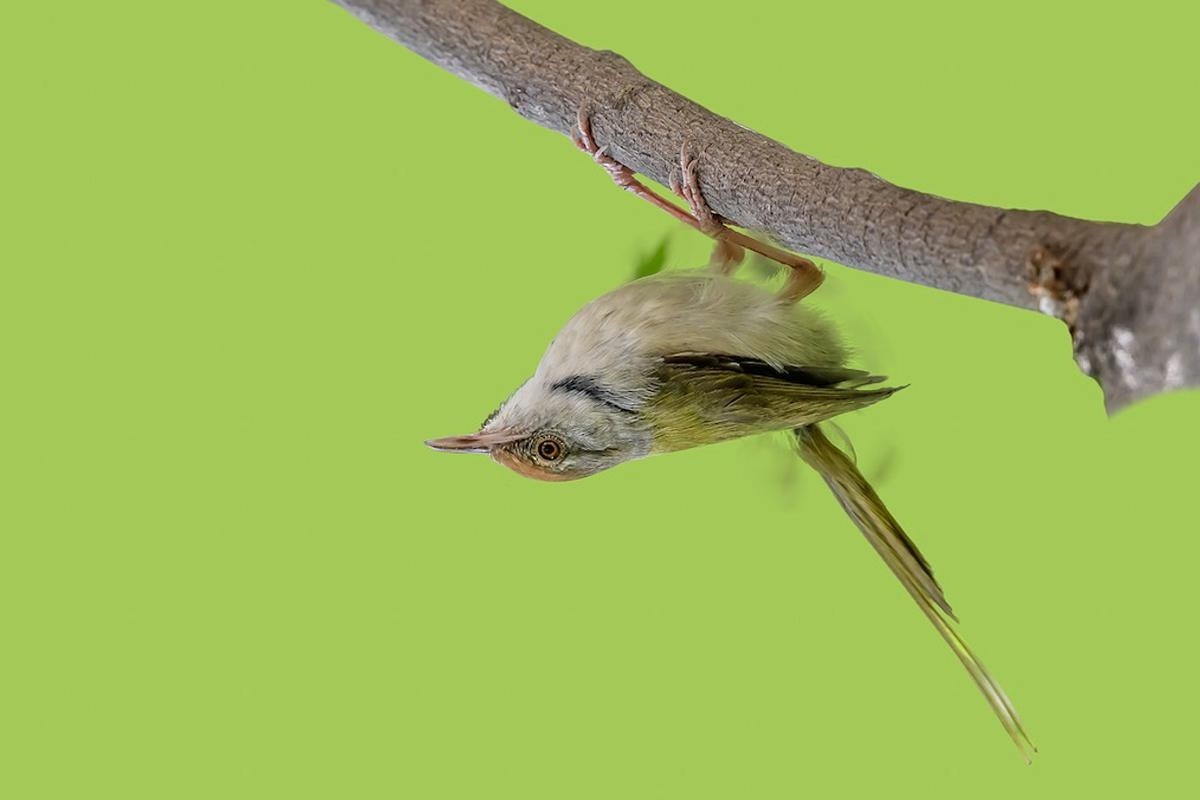tailorbird: (406, 205, 976, 591)
